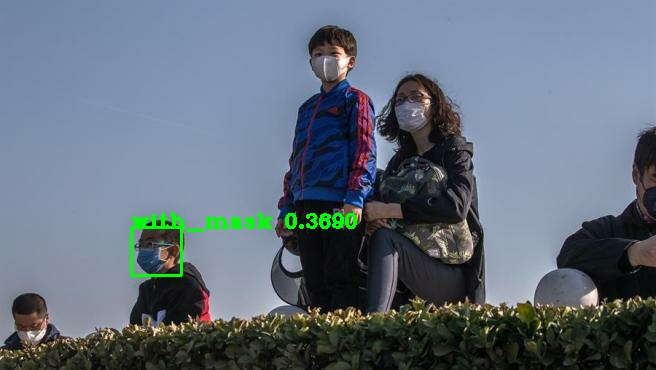with_mask: (388, 71, 448, 137), (302, 26, 360, 86), (131, 222, 188, 274), (628, 128, 656, 231), (5, 291, 58, 342)
